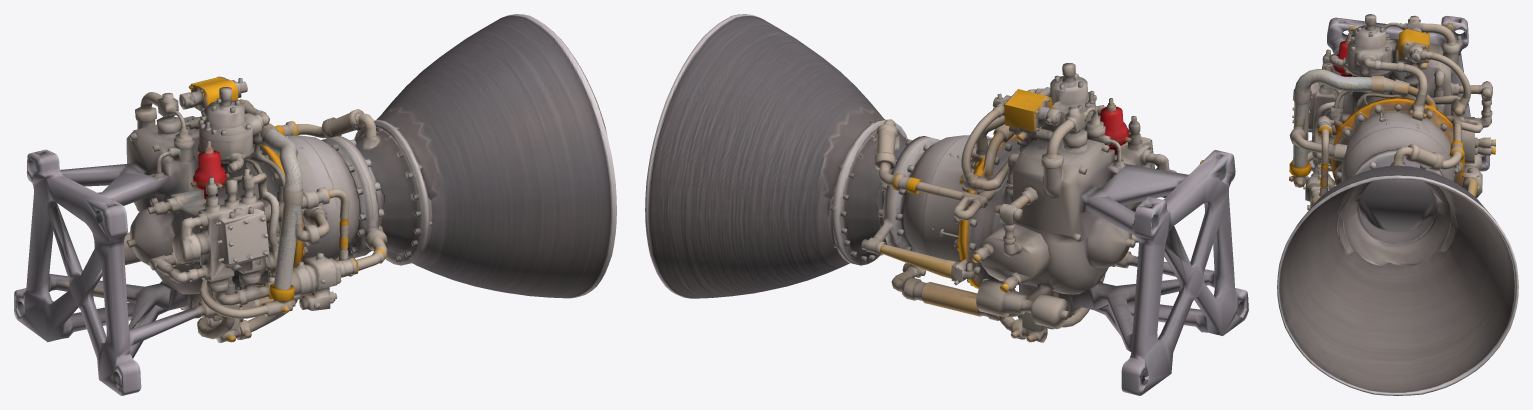
File: sat2_5.fbx
The picture shows the model from 3 angles, left to right: view 1: azimuth 30°, elevation 25°; view 2: azimuth 150°, elevation 25°; view 3: azimuth 270°, elevation 25°; orthographic projection. The views are drawn at different scales.
Visible parts, largest first — view 1: tripo_node_9da0a350; view 2: tripo_node_9da0a350; view 3: tripo_node_9da0a350.
Boxes of the visible parts, box(x1,y1,x2,y2) form: tripo_node_9da0a350: box(14, 14, 616, 395); tripo_node_9da0a350: box(645, 14, 1248, 395); tripo_node_9da0a350: box(1277, 14, 1518, 395).
Size of the model in its own units: 0.9995 by 0.5835 by 0.5259.
